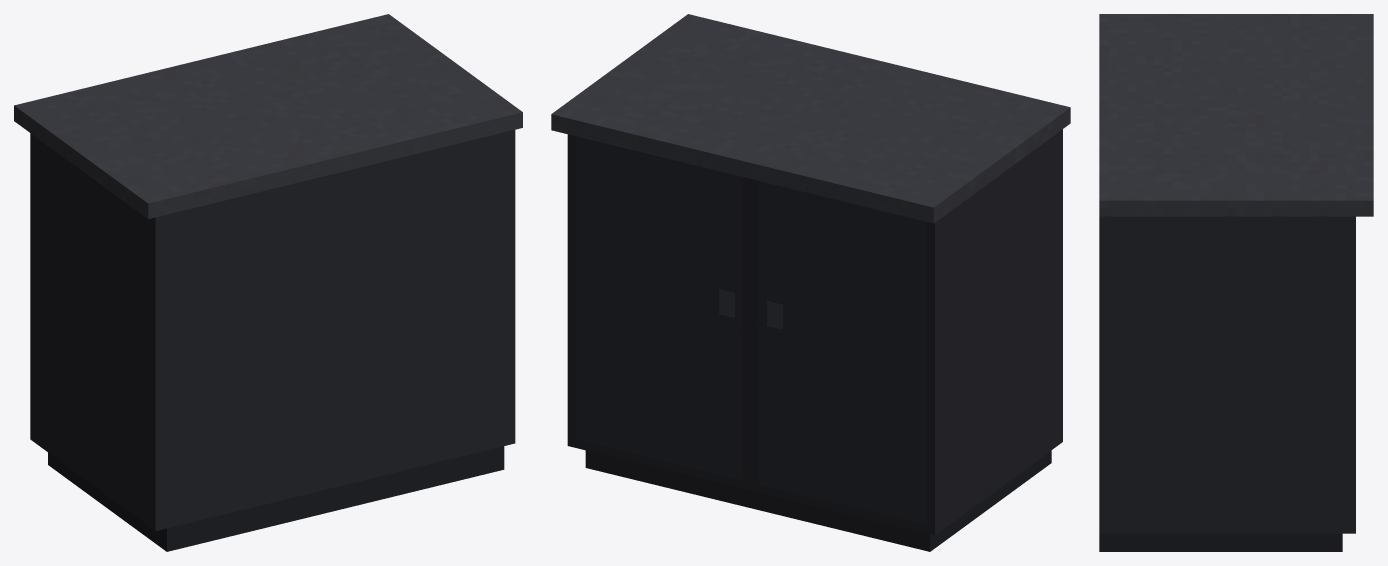
File: f_vitrified_cupboard.glb
The picture shows the model from 3 angles, left to right: view 1: azimuth 30°, elevation 25°; view 2: azimuth 150°, elevation 25°; view 3: azimuth 270°, elevation 25°; orthographic projection. The views are drawn at different scales.
Visible parts, largest first — view 1: block_body, block_top, block_body-plinth; view 2: block_body, block_top, block_body-plinth; view 3: block_body, block_top, block_body-plinth.
Part boxes in pixels (left/top/right/bottom): block_body: left=30, top=130, right=515, bottom=530; block_top: left=14, top=14, right=522, bottom=219; block_body-plinth: left=48, top=446, right=504, bottom=551; block_body: left=567, top=129, right=1062, bottom=535; block_top: left=551, top=14, right=1070, bottom=223; block_body-plinth: left=585, top=450, right=1051, bottom=551; block_body: left=1099, top=216, right=1355, bottom=533; block_top: left=1099, top=14, right=1373, bottom=216; block_body-plinth: left=1099, top=533, right=1342, bottom=551.
Size of the model in its own units: 1 by 0.9 by 0.62.
Materials: 1 (1 with a texture image).
